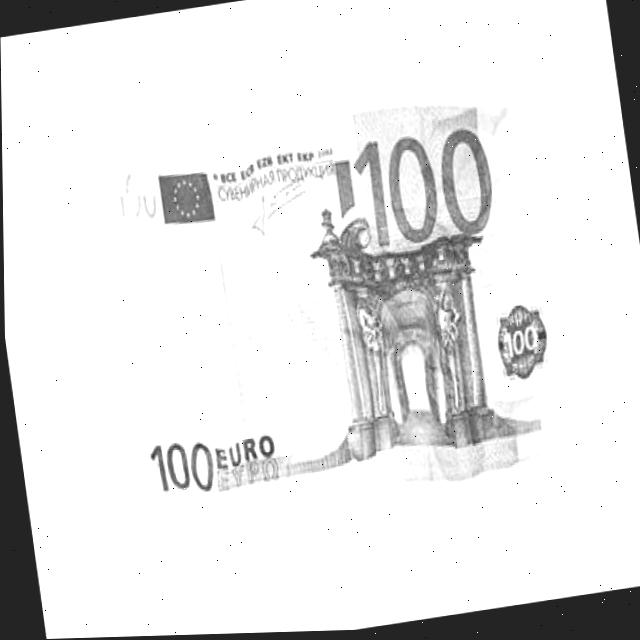banknote: (98, 75, 599, 537), (345, 116, 503, 272), (143, 426, 220, 519), (112, 157, 161, 234)
